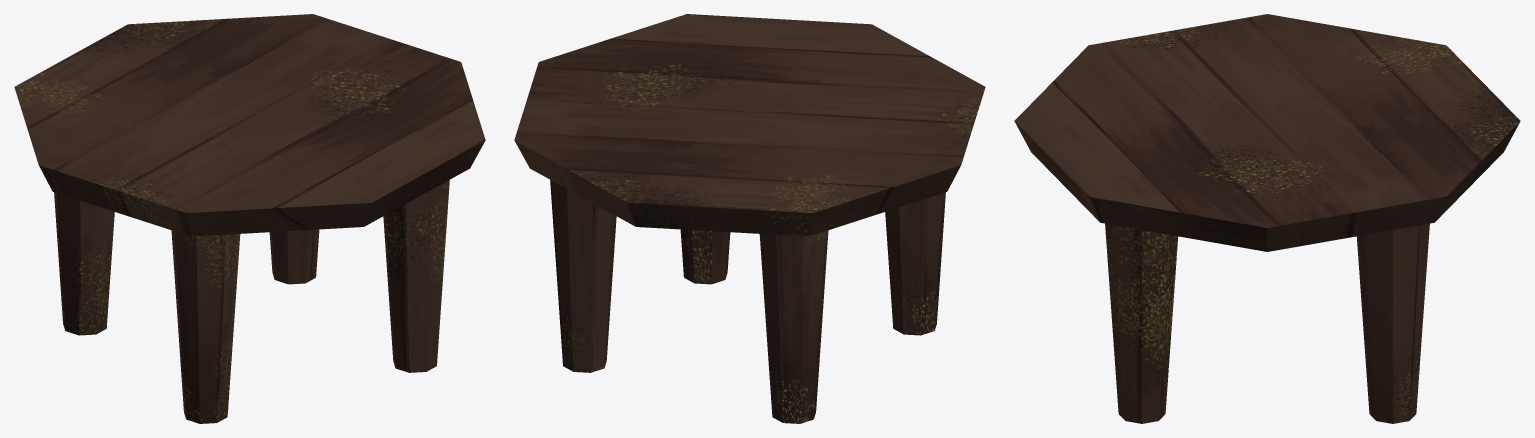
File: Table02.fbx
3 views of the same model, side by side, from view 1: azimuth 30°, elevation 25°; view 2: azimuth 150°, elevation 25°; view 3: azimuth 270°, elevation 25° (orthographic). The views are drawn at different scales.
Visible parts, largest first — view 1: Table02; view 2: Table02; view 3: Table02.
Boxes of the visible parts, bbox=[...] form: Table02: bbox=[14, 14, 485, 423]; Table02: bbox=[514, 14, 985, 423]; Table02: bbox=[1014, 14, 1520, 423].
Bounding box in the file's own units: 1.12 × 0.5847 × 1.12.
Materials: 1 (1 with a texture image).
